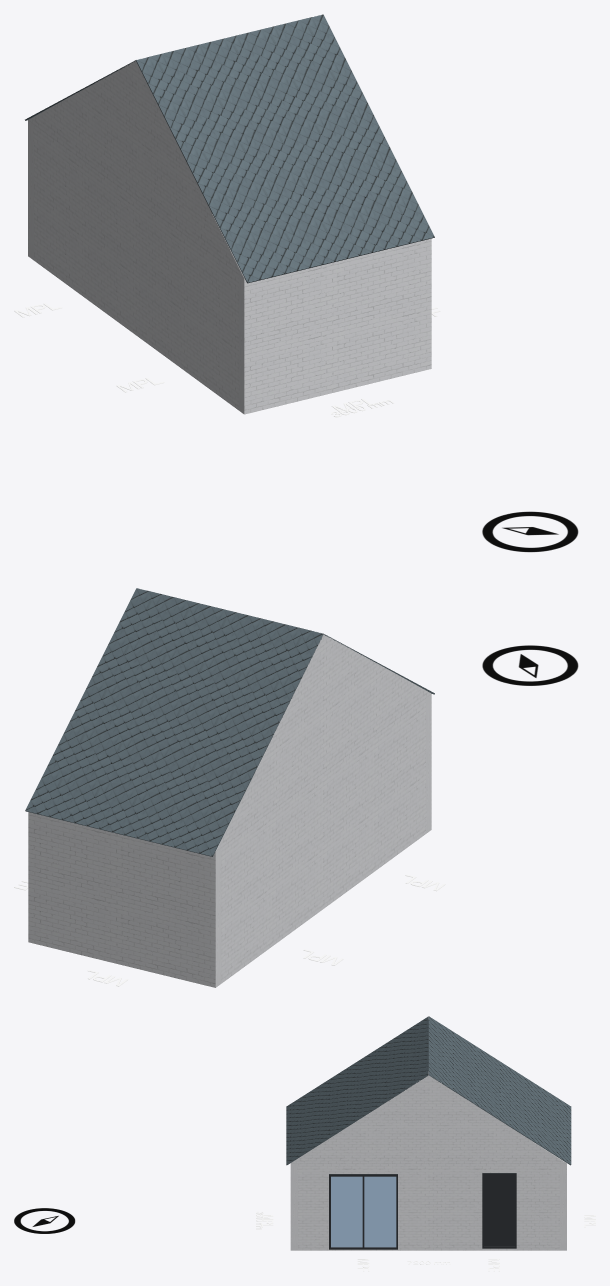
Rendered from scene (avec ouvertures dans groupe Travee).gltf.
The picture shows the model from 3 angles, top to bottom: view 1: azimuth 30°, elevation 25°; view 2: azimuth 150°, elevation 25°; view 3: azimuth 270°, elevation 25°; orthographic projection. The views are drawn at different scales.
Parts seen in each view (by area): view 1: toit_excluded, Travee 1>AV, Travee 2>PEXT_gauche_excluded, Travee 1>PGAV, Travee 1>PGAR, boussole, Travee 1>AR; view 2: toit_excluded, Travee 1>AR, Travee 2>PEXT_gauche_excluded, Travee 1>PGAV, Travee 1>PGAR, boussole, Travee 1>AV; view 3: toit_excluded (×2), Travee 2>PEXT_droit_excluded, Travee 1>PDAR, Travee 1>PDAV, Travee 1>PDAV>Ouverture PF>Vitre, Travee 1>PDAR>Ouverture PE>Porte, excluded (×2), Travee 1>AV, Travee 1>AR, boussole.
Boxes of the visible parts, x1,y1,x2,y2 form: toit_excluded: [136, 14, 434, 283]; Travee 1>AV: [238, 238, 431, 414]; Travee 2>PEXT_gauche_excluded: [28, 57, 244, 278]; Travee 1>PGAV: [136, 199, 238, 409]; Travee 1>PGAR: [34, 125, 135, 334]; boussole: [482, 511, 578, 552]; Travee 1>AR: [28, 120, 33, 260]; toit_excluded: [25, 588, 323, 856]; Travee 1>AR: [28, 812, 221, 987]; Travee 2>PEXT_gauche_excluded: [215, 631, 431, 851]; Travee 1>PGAV: [323, 698, 425, 908]; Travee 1>PGAR: [221, 773, 323, 982]; boussole: [482, 645, 578, 685]; Travee 1>AV: [425, 694, 431, 833]; toit_excluded (×2): [286, 1016, 571, 1165]; Travee 2>PEXT_droit_excluded: [290, 1071, 566, 1163]; Travee 1>PDAR: [429, 1163, 559, 1250]; Travee 1>PDAV: [298, 1163, 428, 1250]; Travee 1>PDAV>Ouverture PF>Vitre: [331, 1176, 396, 1247]; Travee 1>PDAR>Ouverture PE>Porte: [484, 1175, 515, 1246]; excluded (×2): [329, 1173, 516, 1249]; Travee 1>AV: [290, 1163, 298, 1250]; Travee 1>AR: [559, 1163, 566, 1250]; boussole: [14, 1208, 75, 1233].
Size of what is drawn, in the model's own units: 61.68 by 50.61 by 152.
